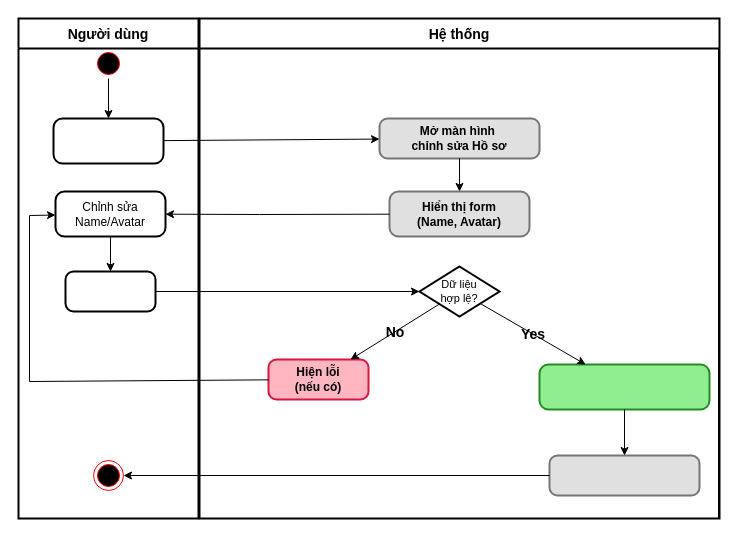
Some shapes in this 737 by 536 pixel diagram are drawn without their labels. The centre of each missing label's shape, as x and y in pixels:
Lưu Name/Avatar xuống Firestore: pixel 624 386
Nhấn icon Edit: pixel 108 140
Nhấn Lưu: pixel 110 291
Quay về màn hình Hồ sơ: pixel 624 475
